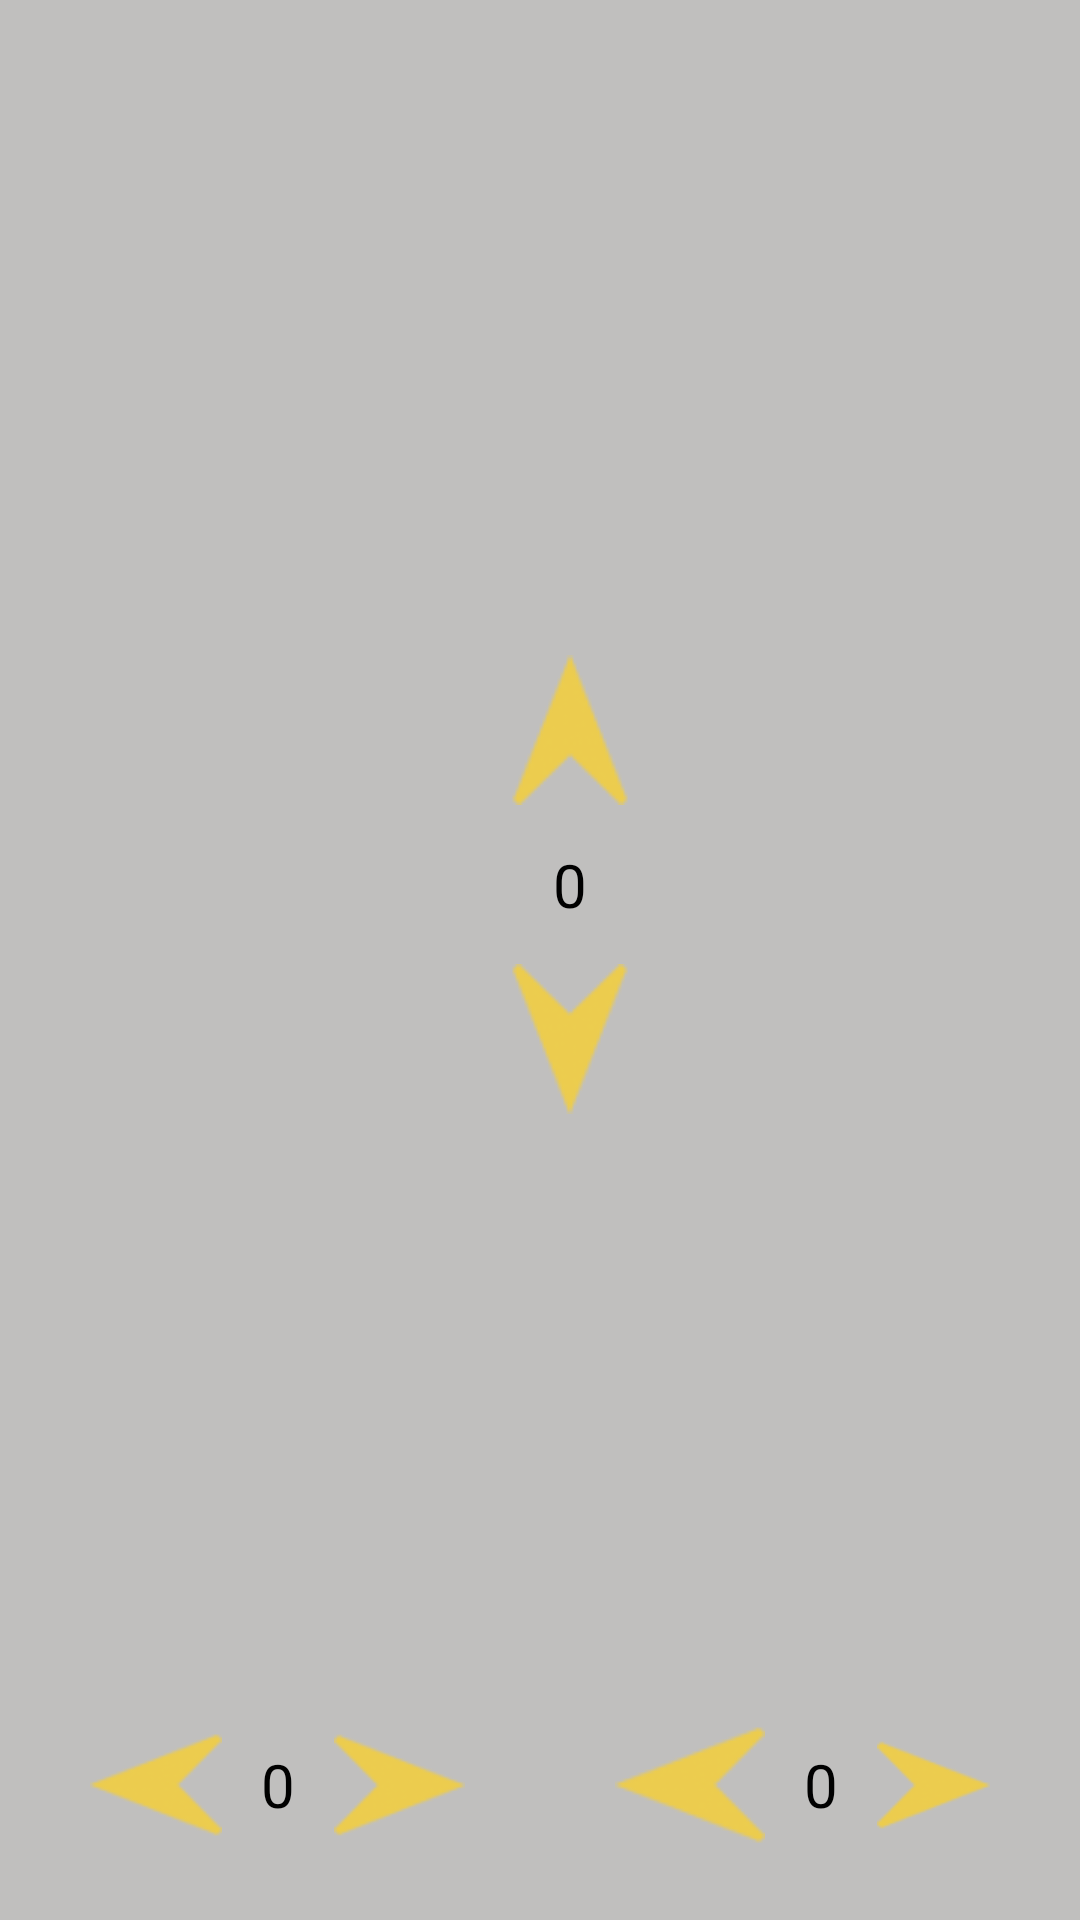

Named icons in this screenshot (1080 x 1920) and their bounding boxes, rect(x1, y1, x2, y2):
arrow botton on: rect(512, 964, 627, 1114)
arrow left on: rect(615, 1727, 765, 1842), rect(90, 1734, 222, 1836)
arrow right on: rect(334, 1735, 465, 1835), rect(877, 1742, 990, 1828)
arrow up on: rect(513, 655, 628, 805)
